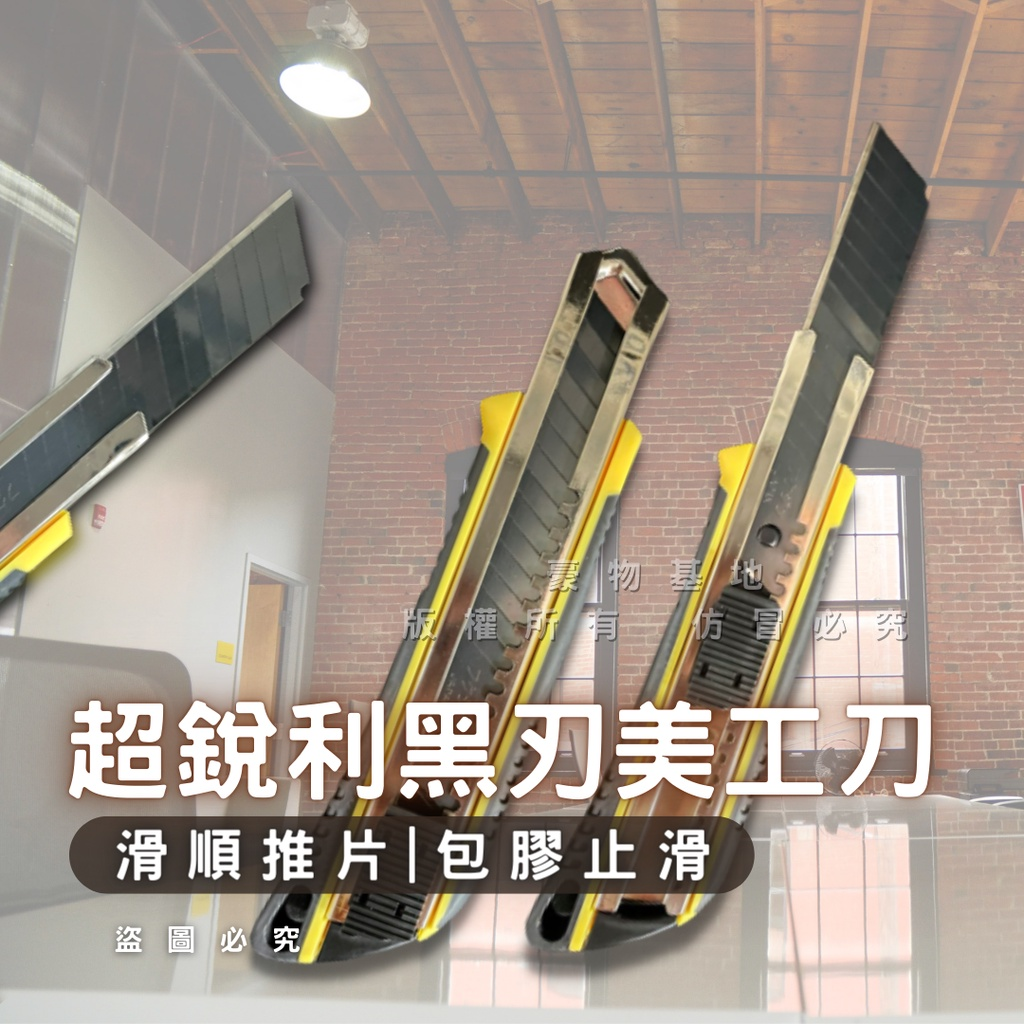cutter: (521, 118, 932, 957), (247, 243, 670, 968), (1, 185, 308, 604)
